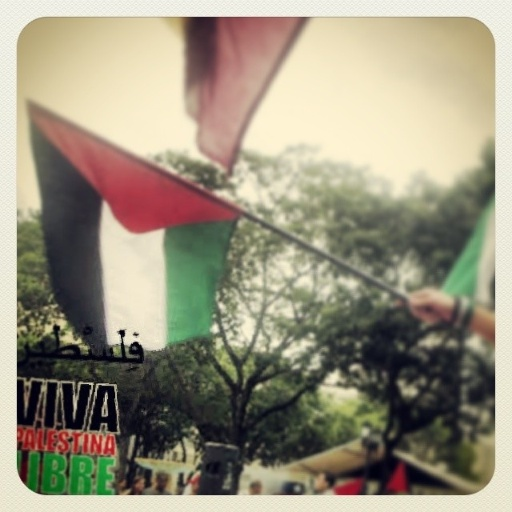hand: (409, 284, 460, 319)
